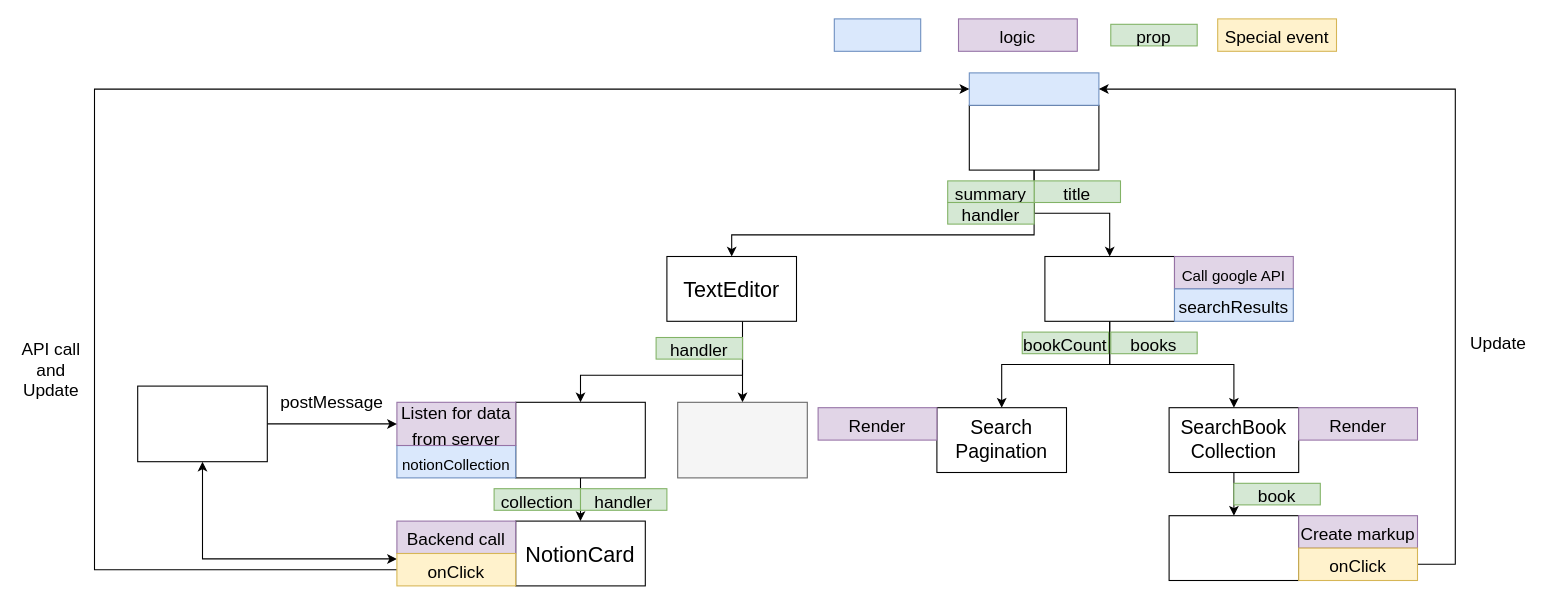
Image size: 1549x605. Some labels were removed from this diagram. The shapes that lost their labels are listed below. From the top down, each one's box as (x1, y1, x2, y2) in pixels, then its label:
(833, 18, 921, 51): state
(968, 72, 1099, 105): formData
(968, 104, 1099, 170): BookForm
(1044, 255, 1174, 321): SearchModal
(137, 385, 267, 462): Backend Server
(515, 401, 645, 478): NotionPage Picker
(677, 401, 807, 478): TinyMCE
(1168, 515, 1299, 580): BookCard
